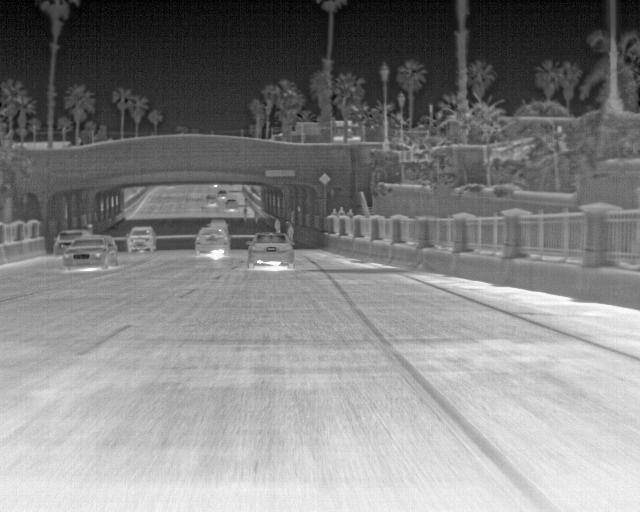bicycle: (64, 234, 117, 272), (248, 232, 297, 266), (50, 226, 95, 257), (195, 228, 231, 257), (125, 225, 157, 253), (206, 219, 228, 236), (205, 193, 220, 208), (223, 200, 239, 212)
empty: (335, 205, 347, 218), (345, 206, 357, 219), (329, 205, 341, 217)
